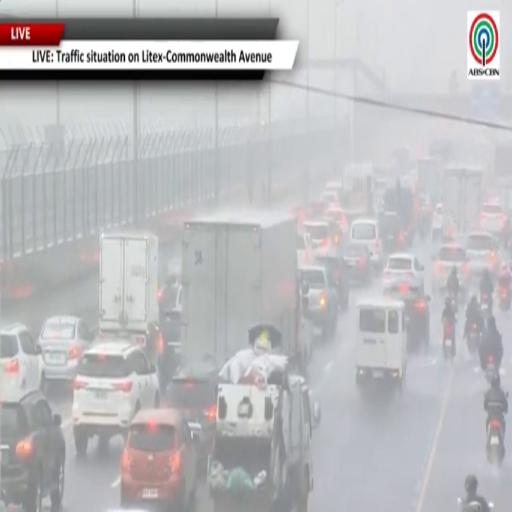car: (72, 340, 160, 457), (0, 391, 65, 511), (120, 409, 197, 510), (166, 358, 218, 473), (39, 316, 94, 381), (0, 324, 45, 397), (384, 283, 430, 351), (299, 265, 338, 339), (97, 323, 164, 365), (156, 300, 182, 392), (432, 243, 469, 300), (315, 255, 350, 311), (350, 218, 383, 269), (466, 232, 498, 283), (383, 252, 424, 289), (297, 280, 312, 374), (343, 244, 372, 283), (303, 220, 336, 254), (379, 211, 405, 254), (480, 202, 507, 235), (320, 217, 343, 251), (417, 192, 432, 237), (325, 206, 348, 235), (159, 281, 181, 311), (297, 233, 313, 265), (431, 203, 444, 241), (305, 200, 328, 221), (325, 182, 343, 203), (321, 190, 339, 206)
motorcycle: (487, 420, 505, 466), (443, 322, 455, 360), (467, 324, 480, 354), (485, 355, 498, 383), (457, 498, 481, 511), (499, 285, 510, 311), (481, 294, 492, 318), (449, 292, 458, 313)
truck: (207, 334, 319, 511), (181, 211, 299, 367), (99, 232, 163, 363), (443, 166, 483, 235), (340, 164, 375, 220), (418, 157, 442, 203)
